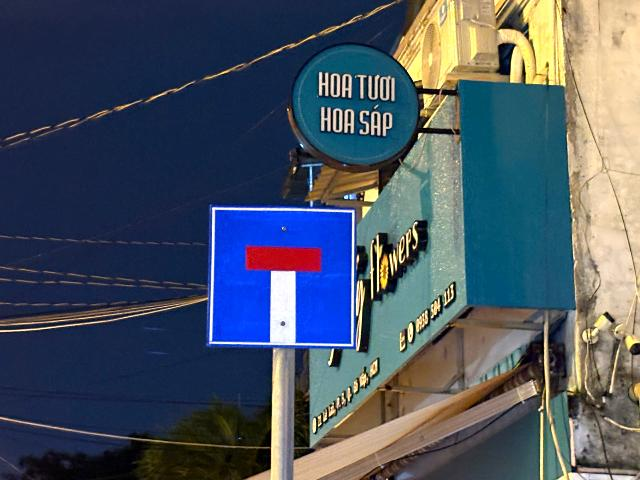duong-cut: (208, 203, 356, 348)
